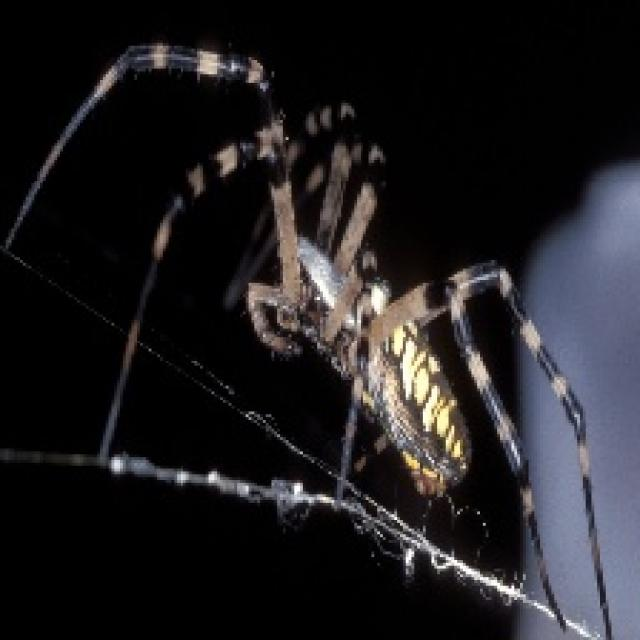Non venomous spider: (193, 177, 557, 538)
